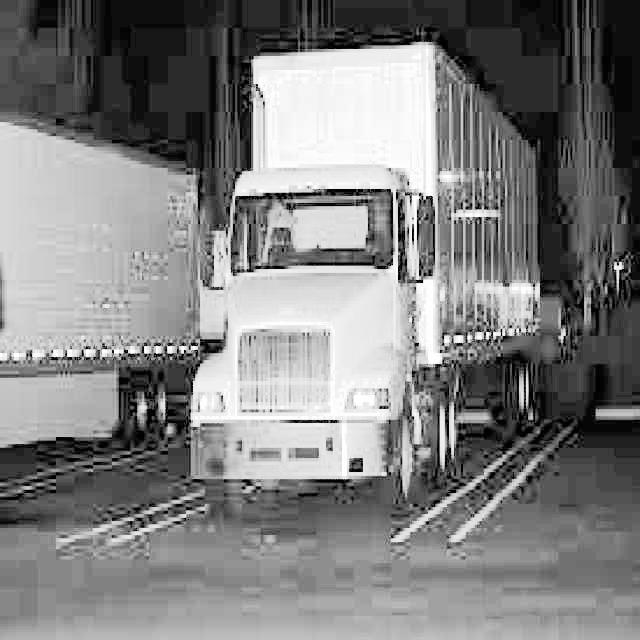Truck: (186, 39, 542, 508), (0, 108, 202, 458)
